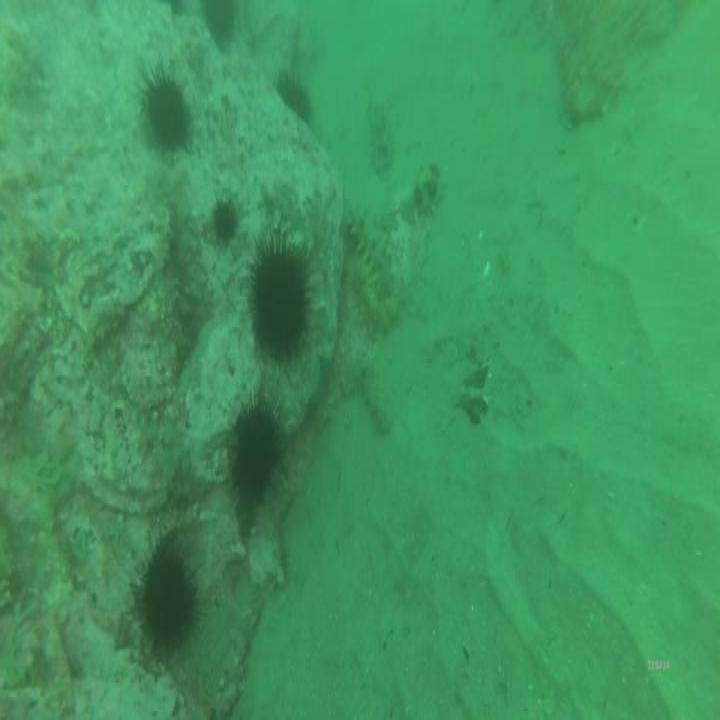echinus: (125, 542, 203, 665), (244, 229, 313, 368), (224, 393, 287, 515), (138, 66, 193, 162), (272, 66, 315, 132), (201, 0, 238, 55), (209, 194, 240, 249)
holothurian: (246, 402, 331, 544), (194, 615, 265, 720), (555, 32, 626, 128), (339, 199, 400, 309), (341, 245, 396, 343), (354, 359, 399, 441), (364, 96, 399, 178)
